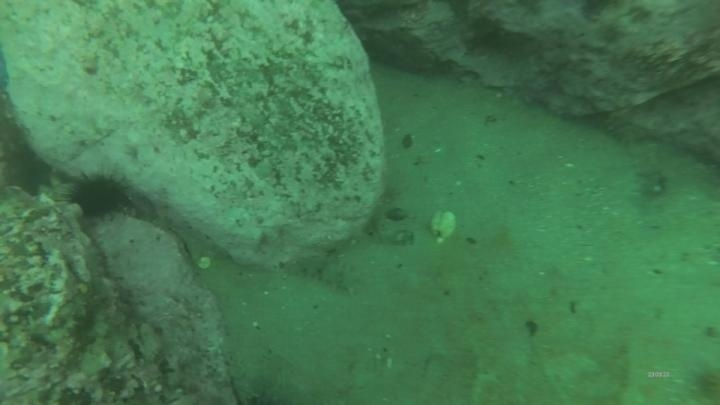echinus: (66, 169, 131, 221)
holothurian: (278, 249, 365, 296)
